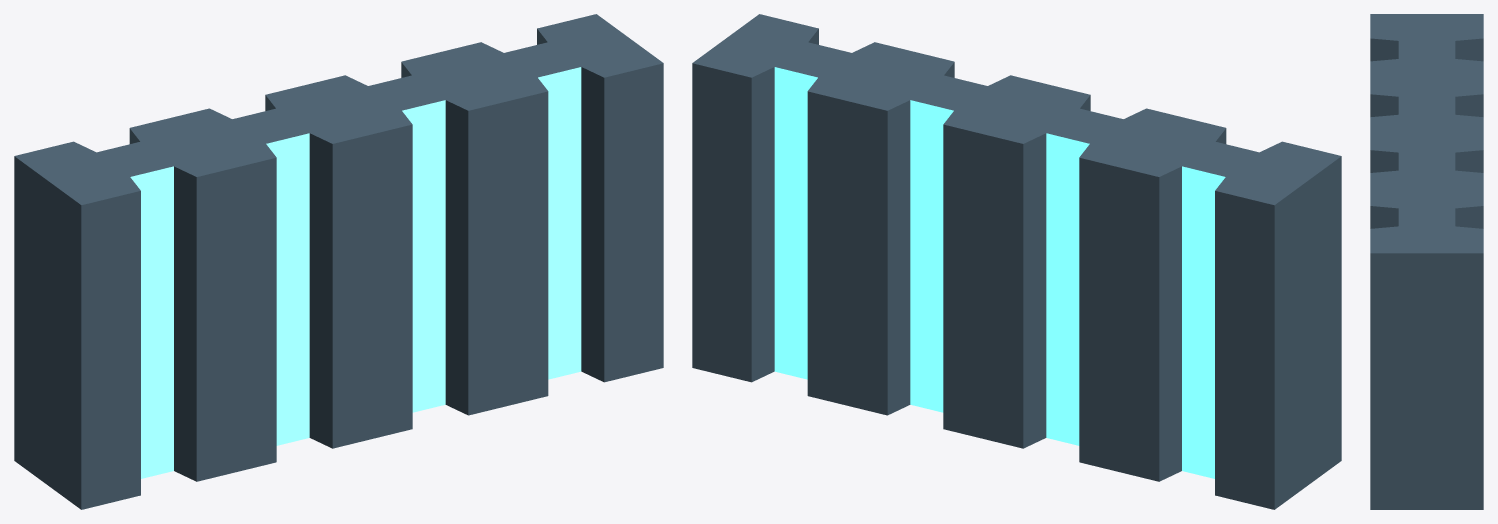
Rendered from W1_Wall_Ridge1Double_Top.fbx.
3 renders of one model, left to right at view 1: azimuth 30°, elevation 25°; view 2: azimuth 150°, elevation 25°; view 3: azimuth 270°, elevation 25°, orthographic. The views are drawn at different scales.
Visible parts, largest first — view 1: W1_Wall_Ridge1Double_Top.001; view 2: W1_Wall_Ridge1Double_Top.001; view 3: W1_Wall_Ridge1Double_Top.001.
Part boxes in pixels (<box>): W1_Wall_Ridge1Double_Top.001: <box>14,14,663,509</box>; W1_Wall_Ridge1Double_Top.001: <box>692,14,1341,509</box>; W1_Wall_Ridge1Double_Top.001: <box>1370,14,1483,509</box>.
Size of the model in its own units: 1 by 0.5 by 0.2.
